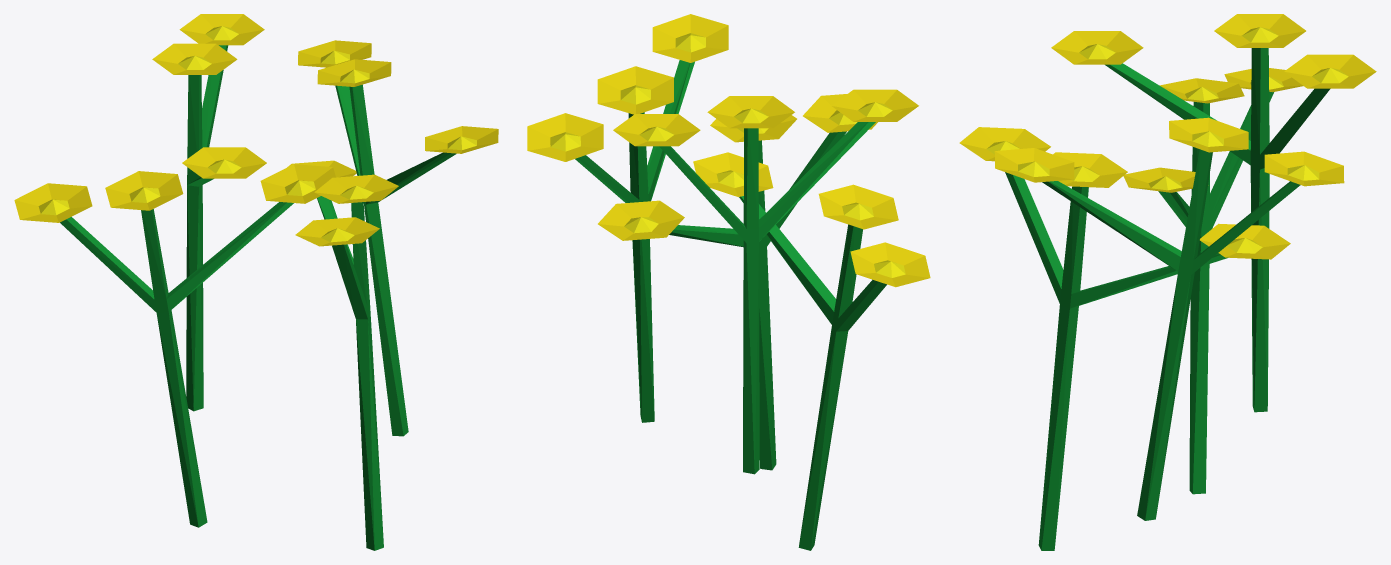
The model's file is DesertBahia_LOD0.fbx.
The picture shows the model from 3 angles, left to right: view 1: azimuth 30°, elevation 25°; view 2: azimuth 150°, elevation 25°; view 3: azimuth 270°, elevation 25°; orthographic projection. The views are drawn at different scales.
Visible parts, largest first — view 1: DesertBahia_LOD0; view 2: DesertBahia_LOD0; view 3: DesertBahia_LOD0.
Boxes of the visible parts, x1,y1,x2,y2 form: DesertBahia_LOD0: (14, 14, 498, 550); DesertBahia_LOD0: (527, 14, 930, 550); DesertBahia_LOD0: (959, 14, 1376, 550).
Size of the model in its own units: 25.69 by 32.55 by 28.88.
